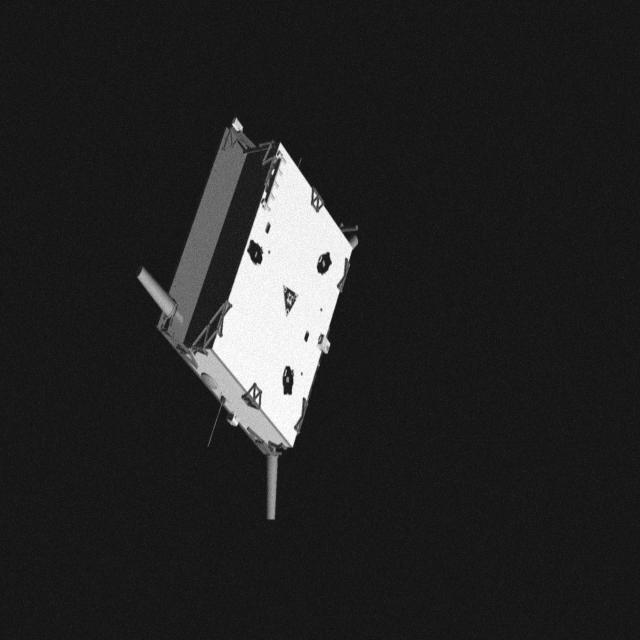medium_debris: (128, 106, 364, 532)
